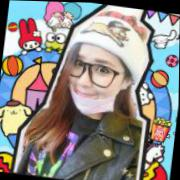WRONG: (61, 50, 126, 116)
